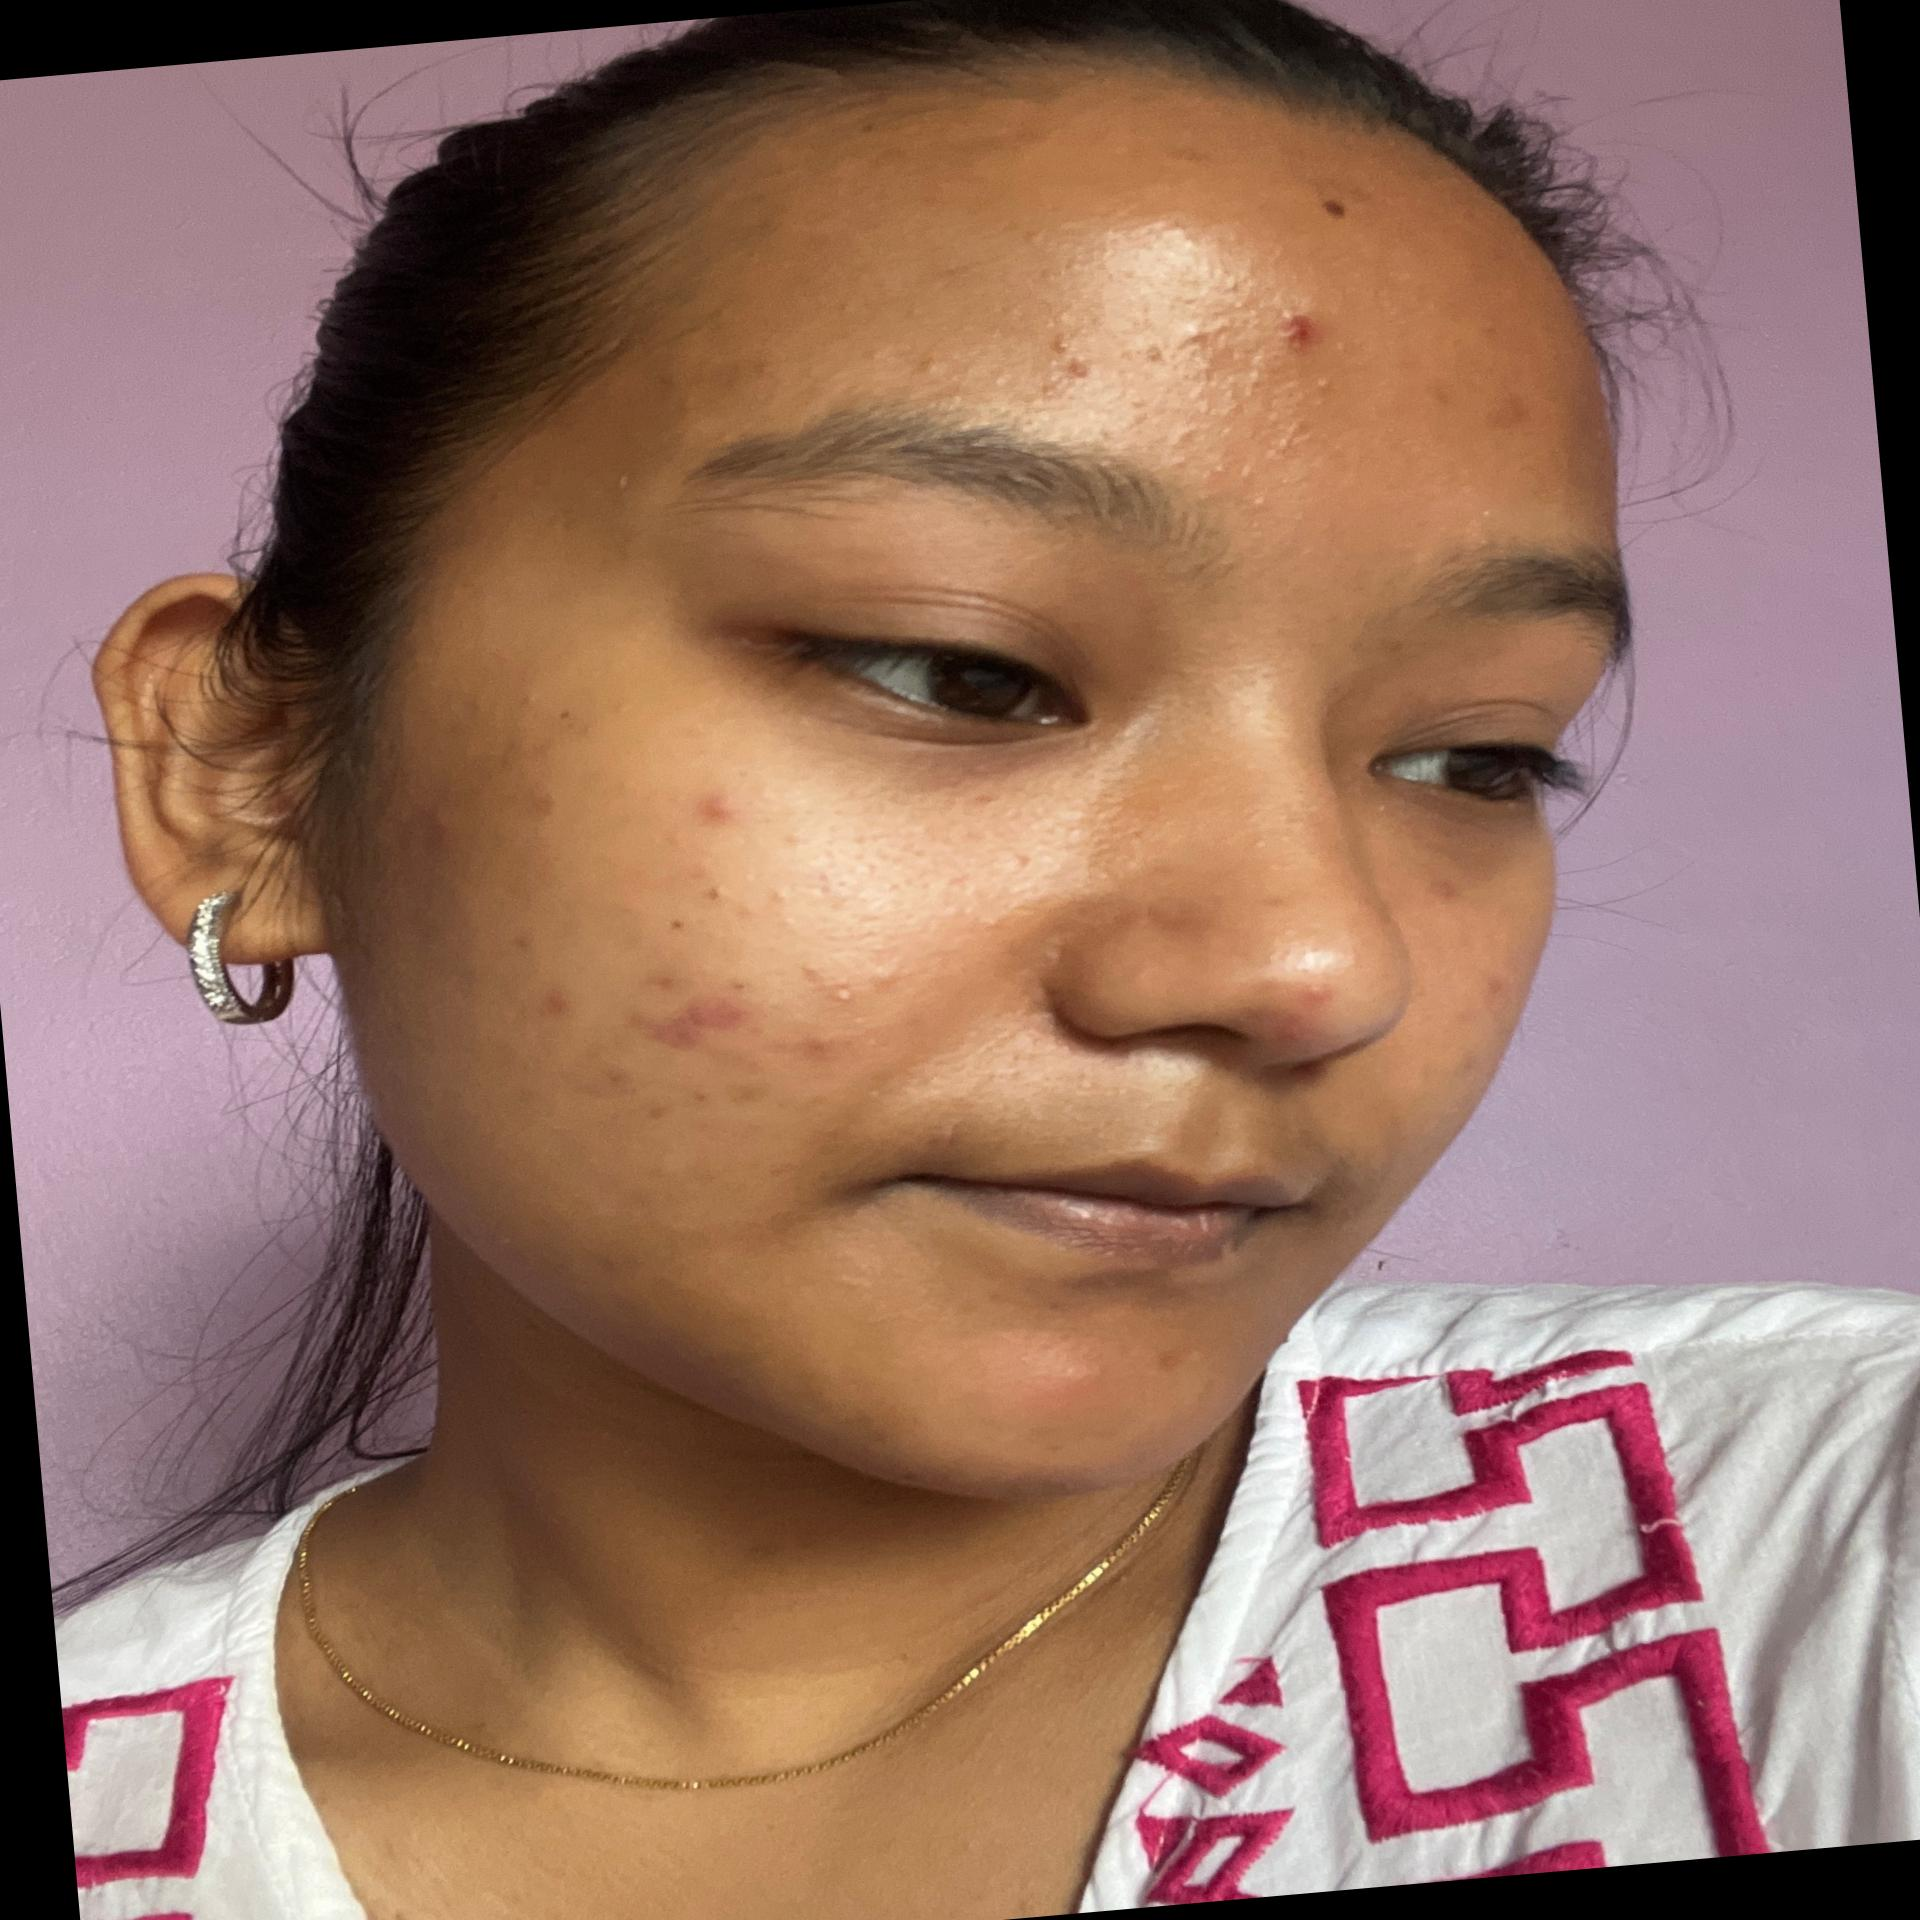Acne: (615, 988, 751, 1060), (791, 953, 913, 1011), (1015, 1343, 1108, 1412), (1273, 302, 1322, 359), (524, 983, 584, 1025), (1486, 387, 1537, 436), (695, 786, 738, 830), (526, 786, 566, 828), (1294, 976, 1336, 1015), (795, 1025, 833, 1067), (1268, 1011, 1308, 1050), (1472, 965, 1512, 1002), (1150, 1343, 1194, 1375), (1417, 870, 1456, 904), (420, 807, 457, 837)
Blackhead: (1071, 380, 1333, 526), (893, 311, 1271, 411)
